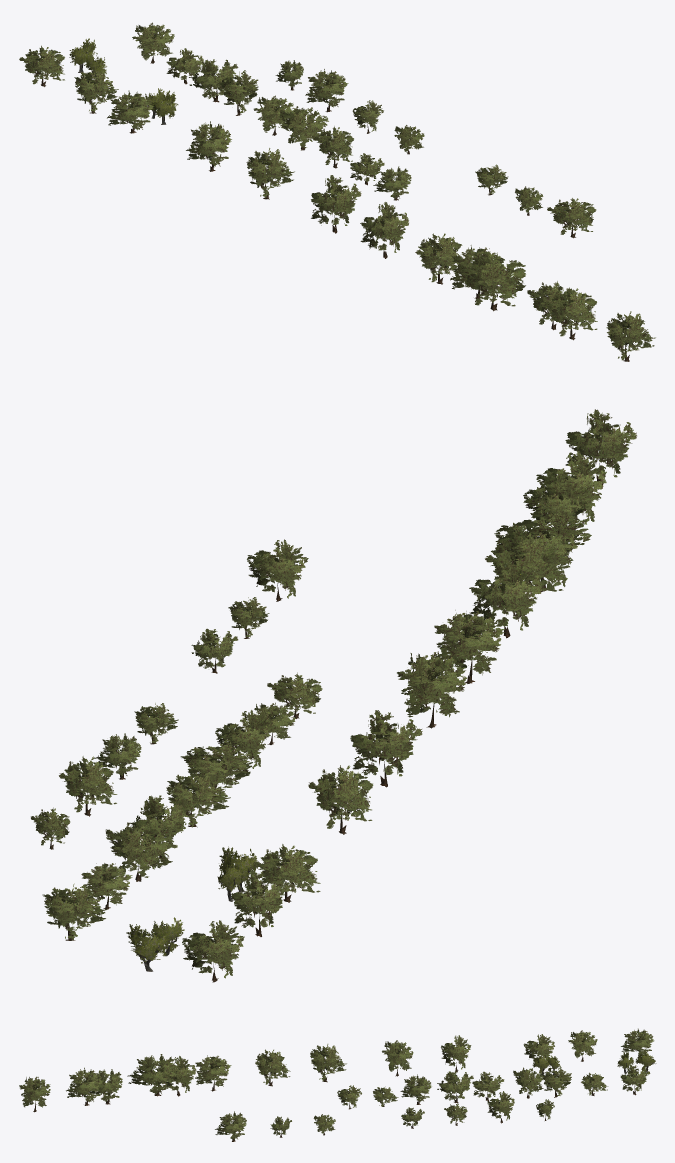
The picture shows the model from 3 angles, top to bottom: view 1: azimuth 30°, elevation 25°; view 2: azimuth 150°, elevation 25°; view 3: azimuth 270°, elevation 25°; orthographic projection. The views are drawn at different scales.
Visible parts, largest first — view 1: jacaranda_tree street foliage, island_tree_01 street foliage, jacaranda_tree park bark; view 2: jacaranda_tree street foliage, island_tree_01 street foliage, jacaranda_tree park bark; view 3: jacaranda_tree street foliage, island_tree_01 street foliage, jacaranda_tree park bark.
Boxes of the visible parts, x1=… form: jacaranda_tree street foliage: x1=19, y1=22, x2=655, y2=360; island_tree_01 street foliage: x1=69, y1=38, x2=178, y2=118; jacaranda_tree park bark: x1=41, y1=52, x2=632, y2=361; jacaranda_tree street foliage: x1=31, y1=409, x2=636, y2=978; island_tree_01 street foliage: x1=126, y1=846, x2=257, y2=963; jacaranda_tree park bark: x1=49, y1=458, x2=603, y2=982; jacaranda_tree street foliage: x1=19, y1=1028, x2=654, y2=1139; island_tree_01 street foliage: x1=532, y1=1050, x2=656, y2=1073; jacaranda_tree park bark: x1=32, y1=1049, x2=638, y2=1141.
Size of the model in its own units: 84.15 by 14.76 by 225.
4 materials, 4 textured.
